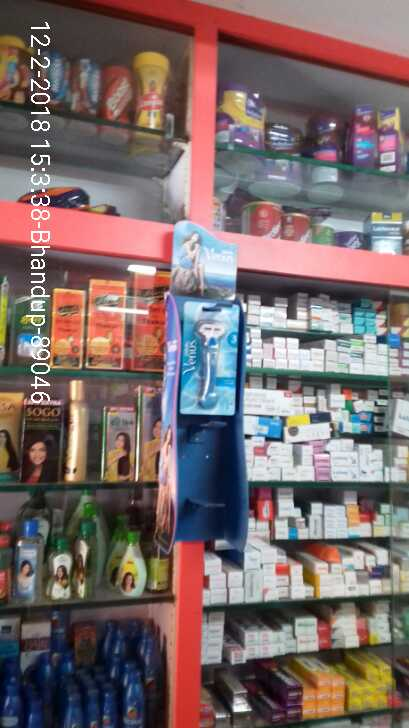venus: (174, 298, 236, 412)
